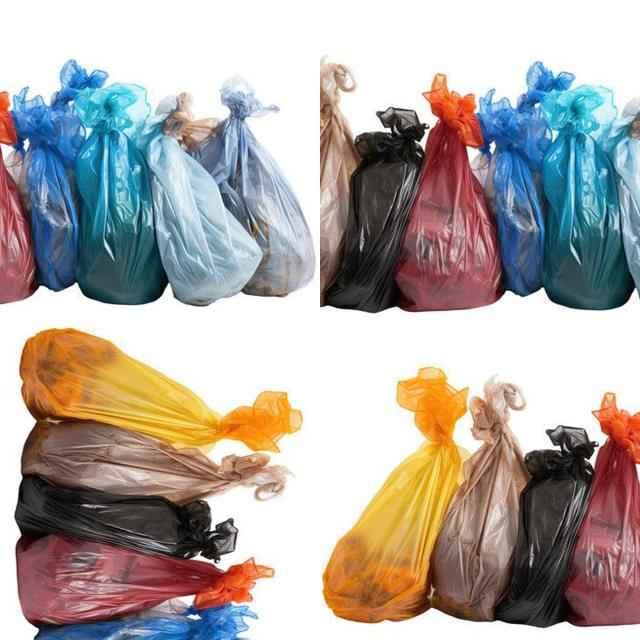Single-layer Plastic: (324, 368, 468, 622), (20, 329, 301, 451), (191, 76, 315, 296), (395, 74, 502, 311), (471, 61, 575, 296), (431, 379, 530, 621), (16, 534, 274, 626), (21, 420, 290, 504), (11, 60, 108, 291), (144, 126, 262, 306), (325, 108, 428, 312), (541, 85, 634, 309), (74, 84, 168, 304), (495, 426, 596, 628), (15, 475, 238, 562), (565, 392, 640, 626), (320, 59, 361, 305)
